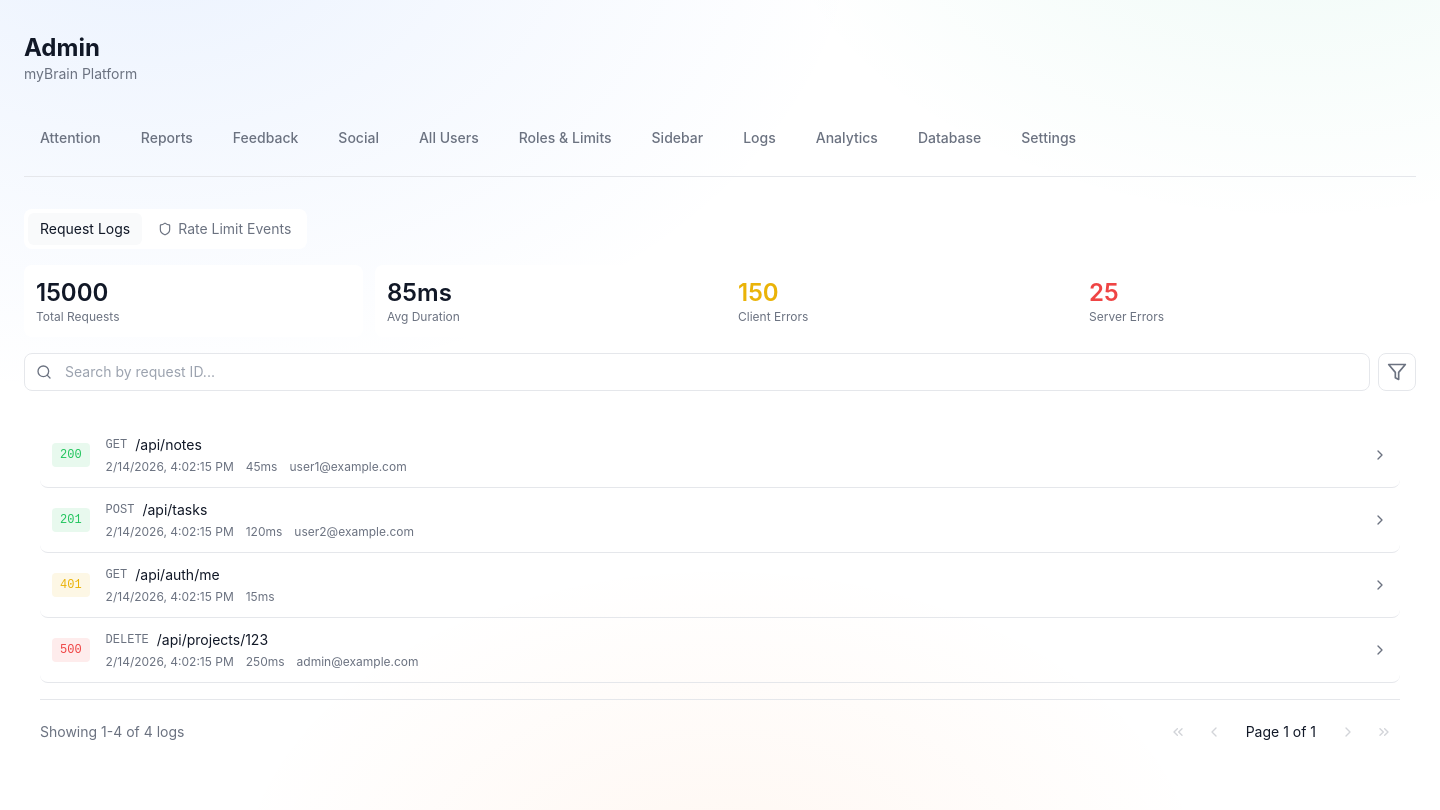
Test: AdminLogsPage › Filter Toggle › shows filter panel when clicking filter button
Expected: the text "/api/notes" is shown, [135,435,202,455]
Click the button named "Show filters".
click(1397, 372)  # box [1378,353,1416,391]
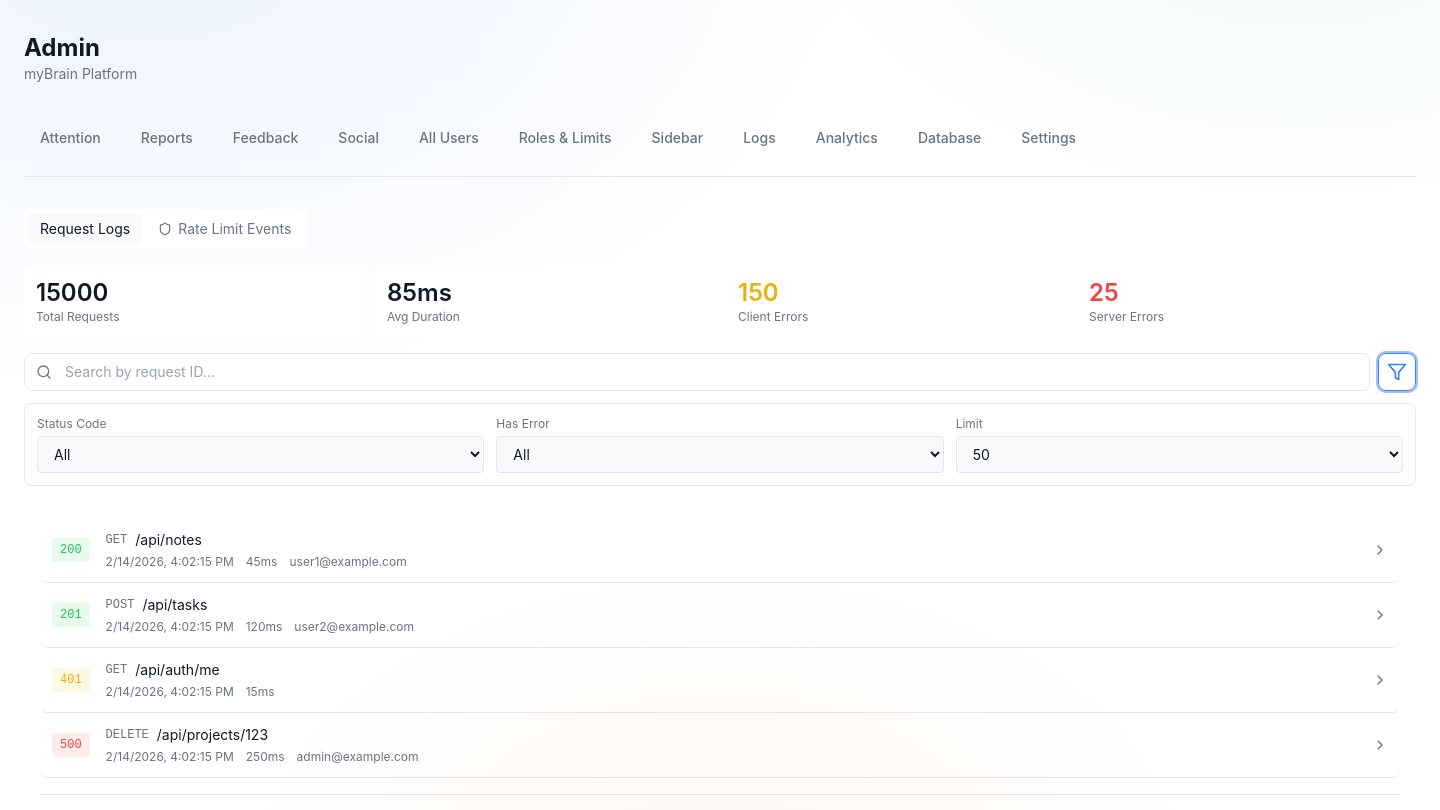
Result: the text "Status Code" is shown at [37,416,106,431]
Result: the text "Has Error" is shown at [496,416,550,431]
Result: the text "Limit" is shown at [956,416,983,431]
